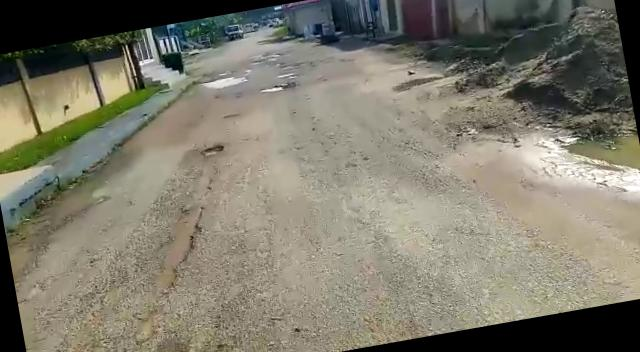pothole: (197, 72, 250, 92), (256, 81, 291, 95), (202, 144, 226, 156)
